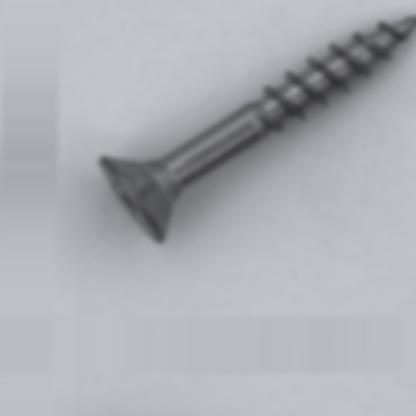metal: (97, 7, 415, 242)
